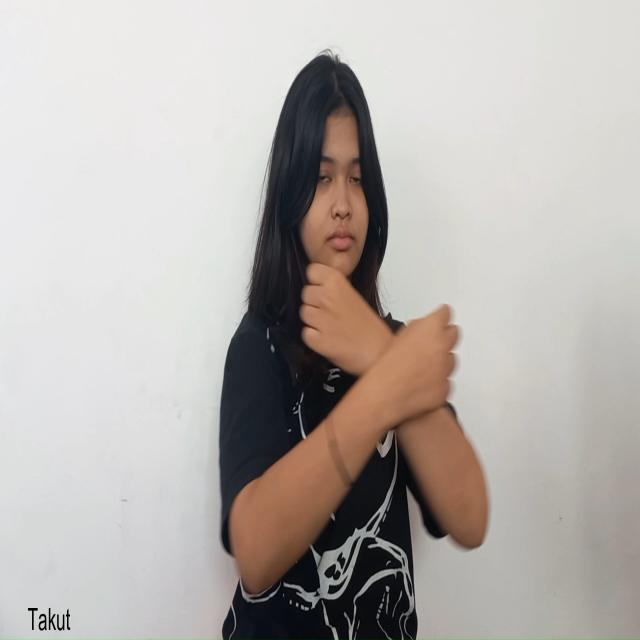Takut -BISINDO-: (298, 259, 464, 431)
